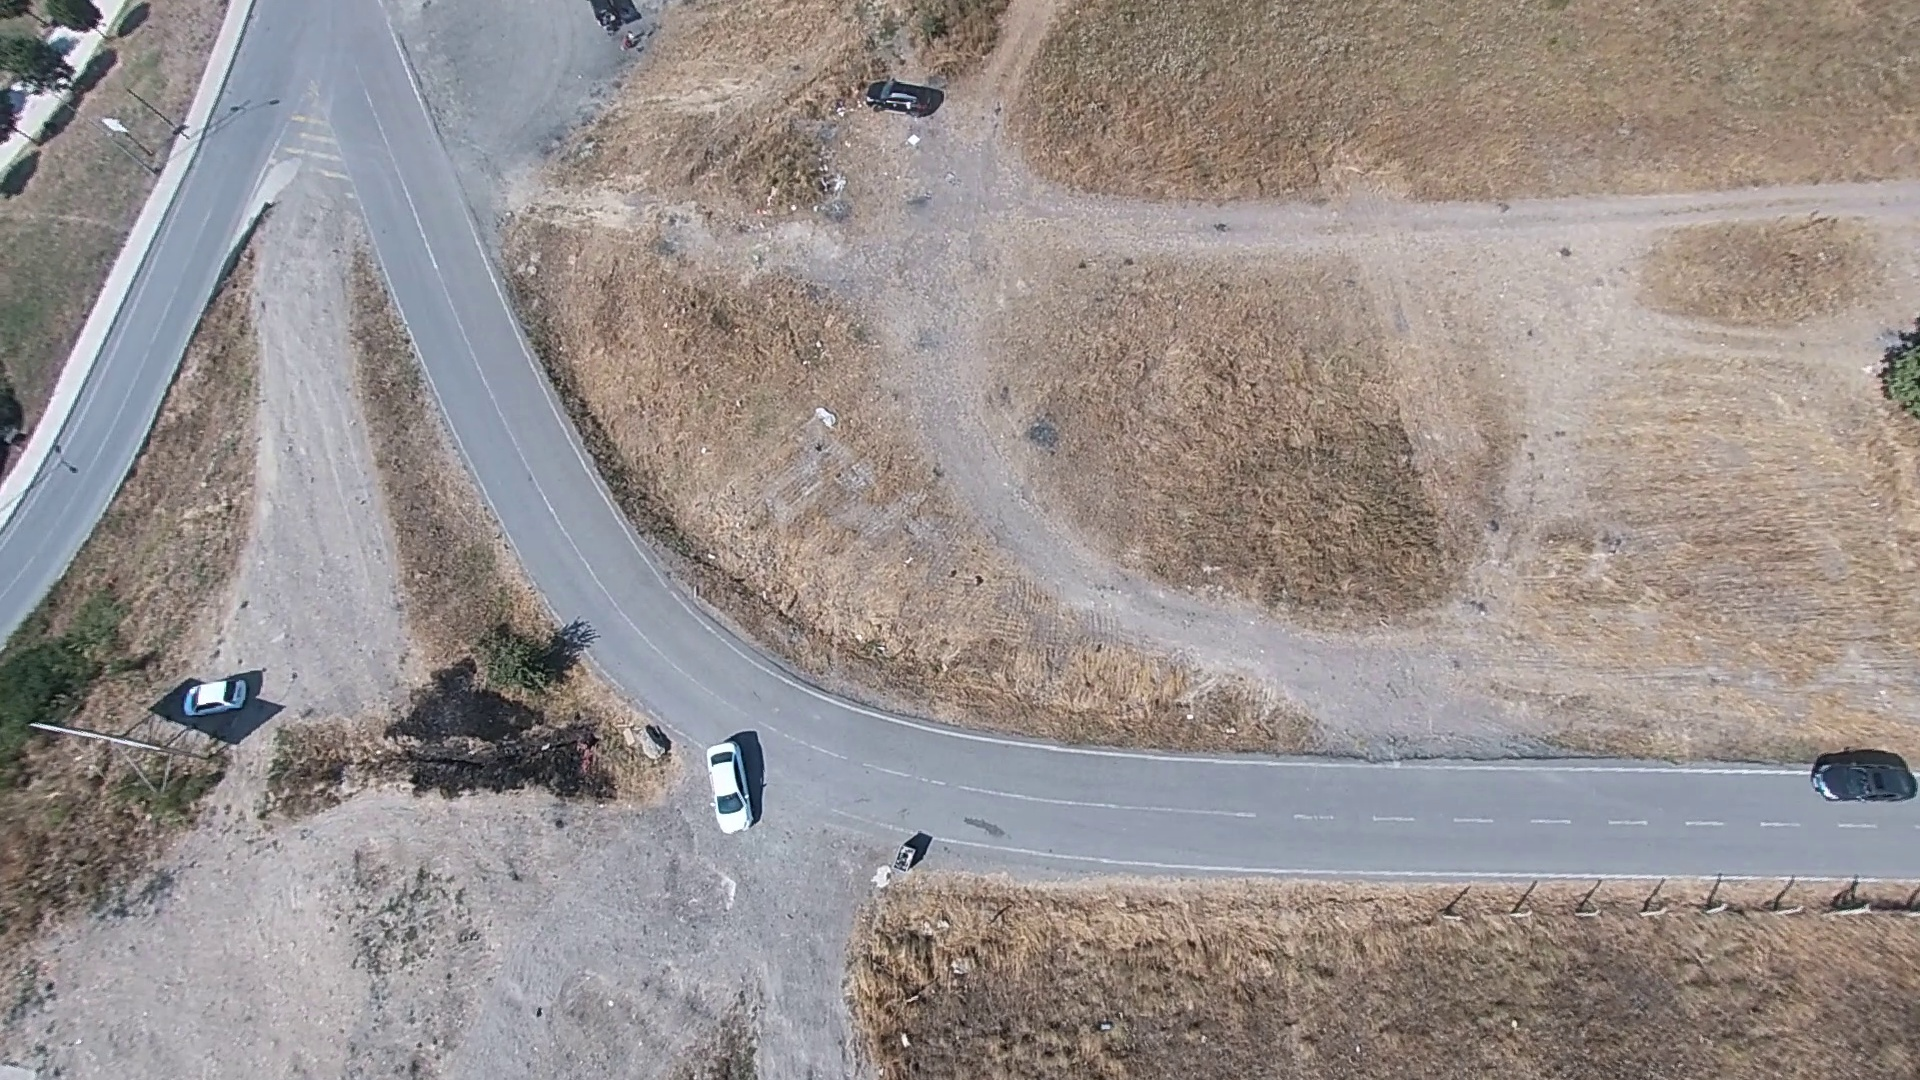araba: (703, 733, 761, 837), (1813, 756, 1920, 804), (182, 674, 249, 719), (868, 78, 936, 112)
